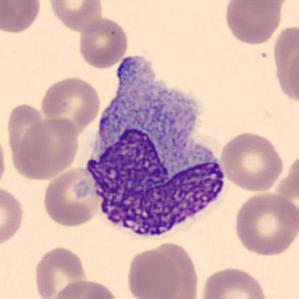Monocyte: (81, 55, 226, 246)
RBC: (10, 115, 82, 181), (232, 189, 298, 258), (218, 129, 285, 193), (41, 166, 104, 228), (39, 74, 102, 135), (6, 102, 55, 179), (142, 240, 200, 299), (31, 244, 90, 299), (124, 247, 182, 299), (76, 15, 130, 70), (222, 0, 284, 46), (198, 264, 270, 299), (270, 22, 299, 106), (271, 169, 299, 238), (46, 0, 104, 32), (0, 183, 27, 250), (47, 277, 120, 299), (0, 0, 43, 36), (283, 41, 299, 105), (0, 128, 7, 191)
